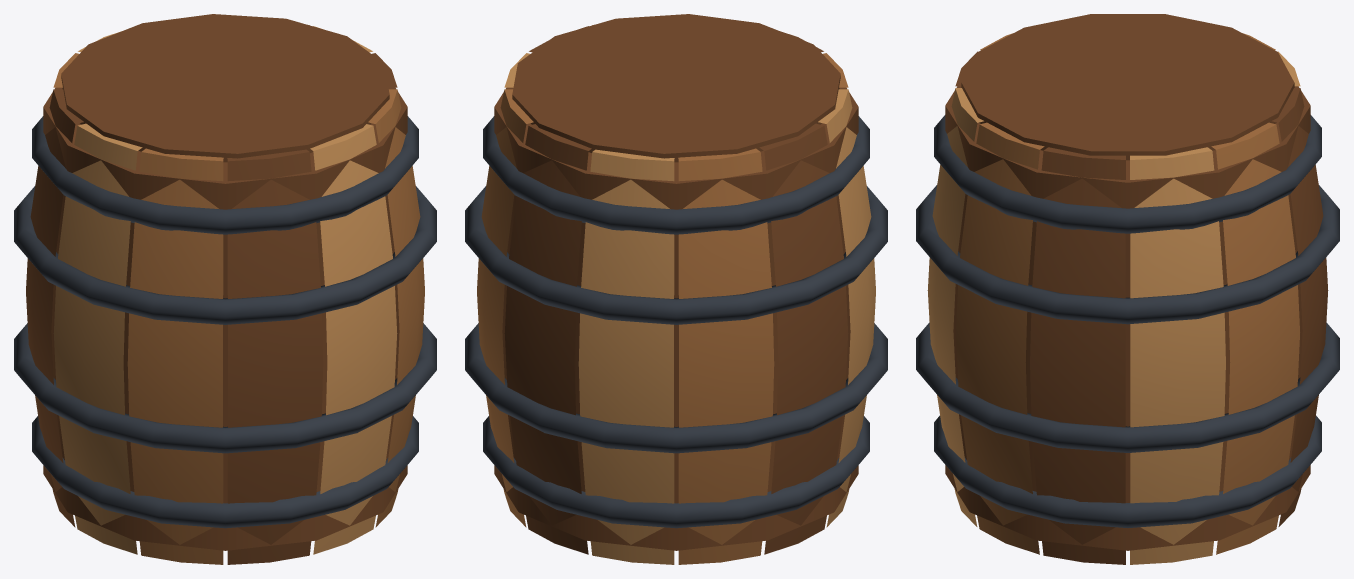
Rendered from Barrel.glb.
3 views of the same model, side by side, from view 1: azimuth 30°, elevation 25°; view 2: azimuth 150°, elevation 25°; view 3: azimuth 270°, elevation 25° (orthographic).
Visible parts, largest first — view 1: Body; view 2: Body; view 3: Body.
Part boxes in pixels (box(x1,y1,x2,y2)): Body: box(14, 14, 436, 564); Body: box(465, 14, 887, 564); Body: box(916, 14, 1339, 564).
Bounding box in the file's own units: 2.12 × 2.22 × 2.09.
1 material, 1 textured.
